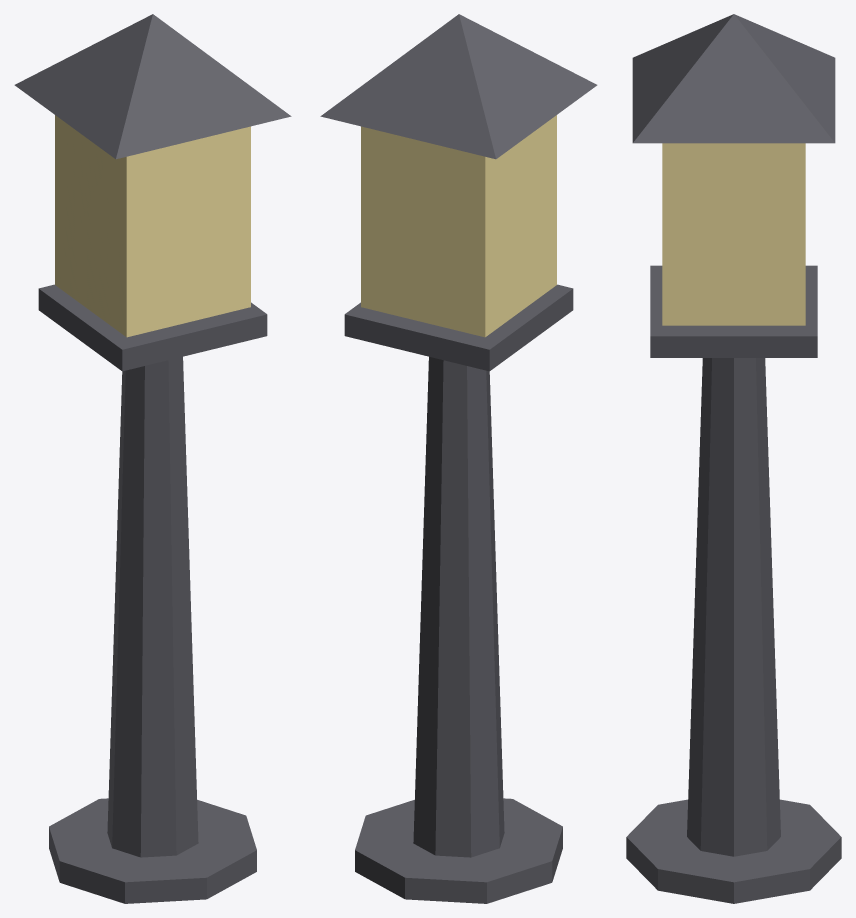
Rendered from lantern.glb.
3 renders of one model, left to right at view 1: azimuth 30°, elevation 25°; view 2: azimuth 150°, elevation 25°; view 3: azimuth 270°, elevation 25°, orthographic.
Visible parts, largest first — view 1: farol; view 2: farol; view 3: farol.
Boxes of the visible parts, x1=… form: farol: x1=14, y1=14, x2=291, y2=903; farol: x1=320, y1=14, x2=597, y2=903; farol: x1=626, y1=14, x2=841, y2=903.
Size of the model in its own units: 0.18 by 0.78 by 0.18.
